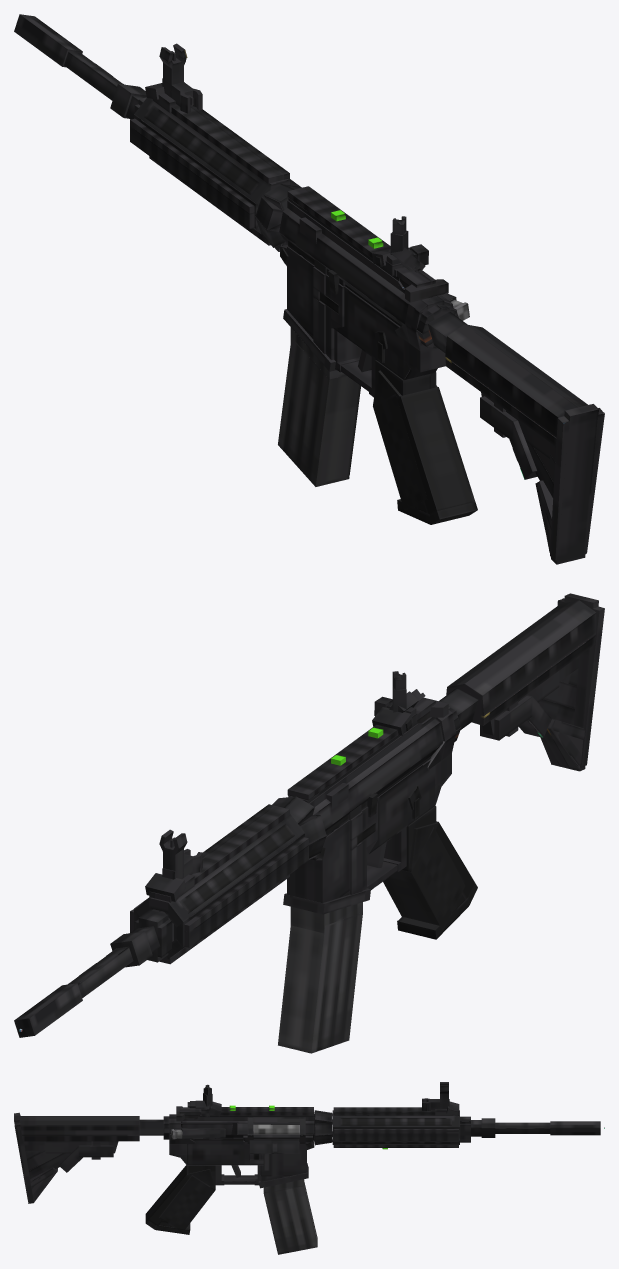
The picture shows the model from 3 angles, top to bottom: view 1: azimuth 30°, elevation 25°; view 2: azimuth 150°, elevation 25°; view 3: azimuth 270°, elevation 25°; orthographic projection. The views are drawn at different scales.
Parts seen in each view (by area): view 1: gun, magazine, bone5, bone4, bone2, bone6, frontsight, frontsightflipped, rearsightbase; view 2: gun, magazine, bone5, bone4, rearsightbase, bone2, frontsight, bone6, bone8; view 3: gun, magazine, bone4, bolt, bone7, bone2, frontsightflipped, rearsightbase.
Boxes of the visible parts, left/top/right/bottom form: gun: left=14, top=14, right=604, bottom=564; magazine: left=278, top=327, right=360, bottom=486; bone5: left=130, top=118, right=254, bottom=229; bone4: left=149, top=102, right=289, bottom=245; bone2: left=283, top=208, right=456, bottom=348; bone6: left=255, top=197, right=284, bottom=247; frontsight: left=159, top=43, right=187, bottom=97; frontsightflipped: left=162, top=78, right=202, bottom=113; rearsightbase: left=372, top=244, right=428, bottom=275; gun: left=14, top=593, right=604, bottom=1037; magazine: left=278, top=902, right=362, bottom=1053; bone5: left=184, top=837, right=308, bottom=947; bone4: left=149, top=804, right=289, bottom=964; rearsightbase: left=372, top=696, right=417, bottom=735; bone2: left=306, top=706, right=455, bottom=815; frontsight: left=159, top=829, right=187, bottom=879; bone6: left=299, top=815, right=326, bottom=858; bone8: left=272, top=796, right=314, bottom=824; gun: left=14, top=1101, right=600, bottom=1234; magazine: left=263, top=1179, right=317, bottom=1254; bone4: left=333, top=1107, right=458, bottom=1147; bolt: left=253, top=1124, right=299, bottom=1134; bone7: left=314, top=1123, right=332, bottom=1143; bone2: left=163, top=1114, right=314, bottom=1126; frontsightflipped: left=422, top=1098, right=449, bottom=1111; rearsightbase: left=201, top=1101, right=221, bottom=1116.
Bounding box in the file's own units: 43.63 × 198 × 637.
